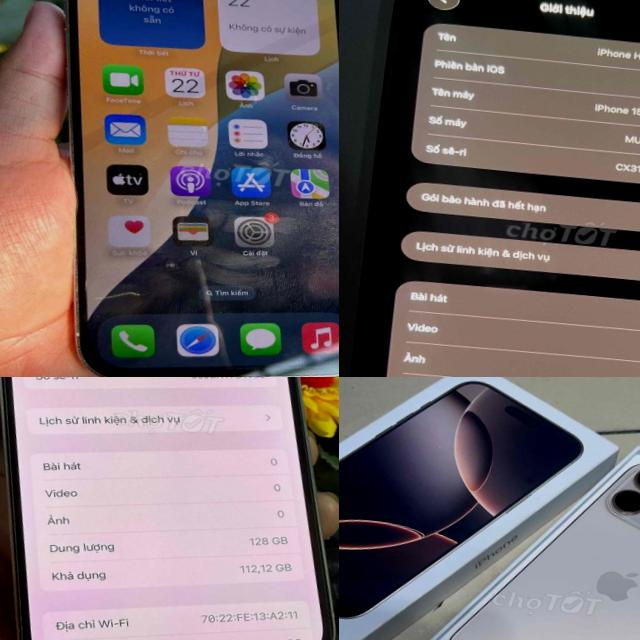scratch: (51, 234, 104, 364)
